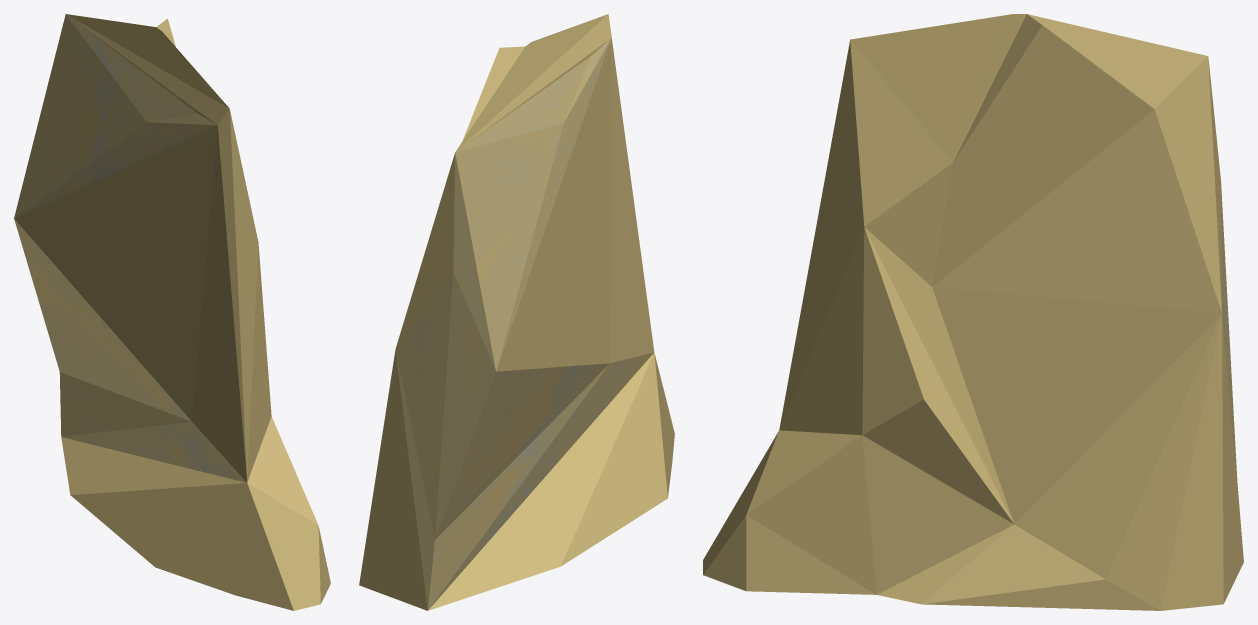
Rendered from Rock8.fbx.
The picture shows the model from 3 angles, left to right: view 1: azimuth 30°, elevation 25°; view 2: azimuth 150°, elevation 25°; view 3: azimuth 270°, elevation 25°; orthographic projection. The views are drawn at different scales.
Visible parts, largest first — view 1: Group1; view 2: Group1; view 3: Group1.
Boxes of the visible parts, box(x1,y1,x2,y2) form: Group1: box(14, 14, 330, 610); Group1: box(359, 14, 674, 610); Group1: box(703, 14, 1243, 610).
Size of the model in its own units: 4442 by 12718 by 11374.
